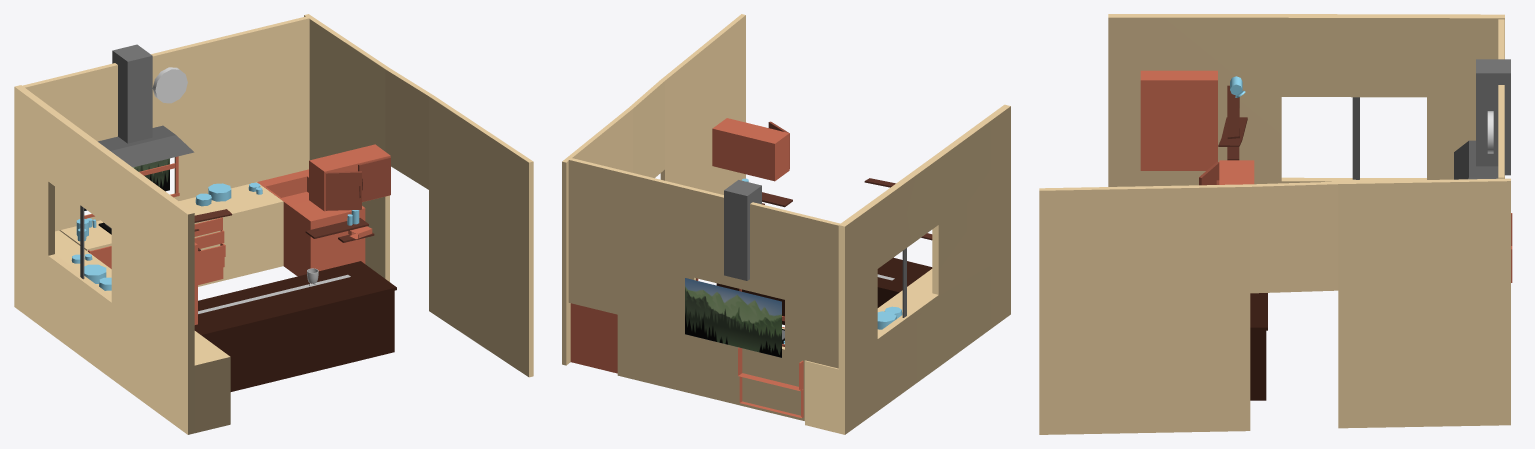
Rendered from escena_1.FBX.
The picture shows the model from 3 angles, left to right: view 1: azimuth 30°, elevation 25°; view 2: azimuth 150°, elevation 25°; view 3: azimuth 270°, elevation 25°; orthographic projection. The views are drawn at different scales.
Visible parts, largest first — view 1: Object004, pCube30, pCube12, pCube046, pCube27, pCube42, pCube23, pCube053, pCube054, Cylinder003, pCylinder10, pCylinder12 (+3 smaller); view 2: Object004, Plane001, pCube42, pCube12, pCube046, pCube30, pCube24; view 3: Object004, pCube43, pCube046, pCube30, pCube27, pCube42, pCube44, pCube6.
Boxes of the visible parts, left/top/right/bottom form: Object004: left=14, top=14, right=533, bottom=434; pCube30: left=194, top=261, right=396, bottom=391; pCube12: left=257, top=169, right=365, bottom=276; pCube046: left=112, top=44, right=152, bottom=143; pCube27: left=98, top=125, right=194, bottom=167; pCube42: left=309, top=144, right=390, bottom=211; pCube23: left=194, top=217, right=225, bottom=284; pCube053: left=325, top=171, right=361, bottom=210; pCube054: left=358, top=157, right=390, bottom=201; Cylinder003: left=152, top=67, right=187, bottom=103; pCylinder10: left=195, top=182, right=262, bottom=206; pCylinder12: left=71, top=254, right=111, bottom=290; Object004: left=562, top=14, right=1010, bottom=434; Plane001: left=685, top=278, right=781, bottom=357; pCube42: left=712, top=118, right=789, bottom=181; pCube12: left=570, top=303, right=617, bottom=373; pCube046: left=724, top=180, right=761, bottom=280; pCube30: left=716, top=257, right=932, bottom=324; pCube24: left=738, top=327, right=803, bottom=418; Object004: left=1039, top=14, right=1510, bottom=434; pCube43: left=1140, top=70, right=1217, bottom=170; pCube046: left=1476, top=59, right=1510, bottom=175; pCube30: left=1250, top=293, right=1267, bottom=400; pCube27: left=1454, top=140, right=1498, bottom=179; pCube42: left=1219, top=160, right=1254, bottom=184; pCube44: left=1352, top=97, right=1359, bottom=179; pCube6: left=1227, top=85, right=1239, bottom=138.
Size of the model in its own units: 33.09 by 23.25 by 38.51.
11 materials, 1 textured.
